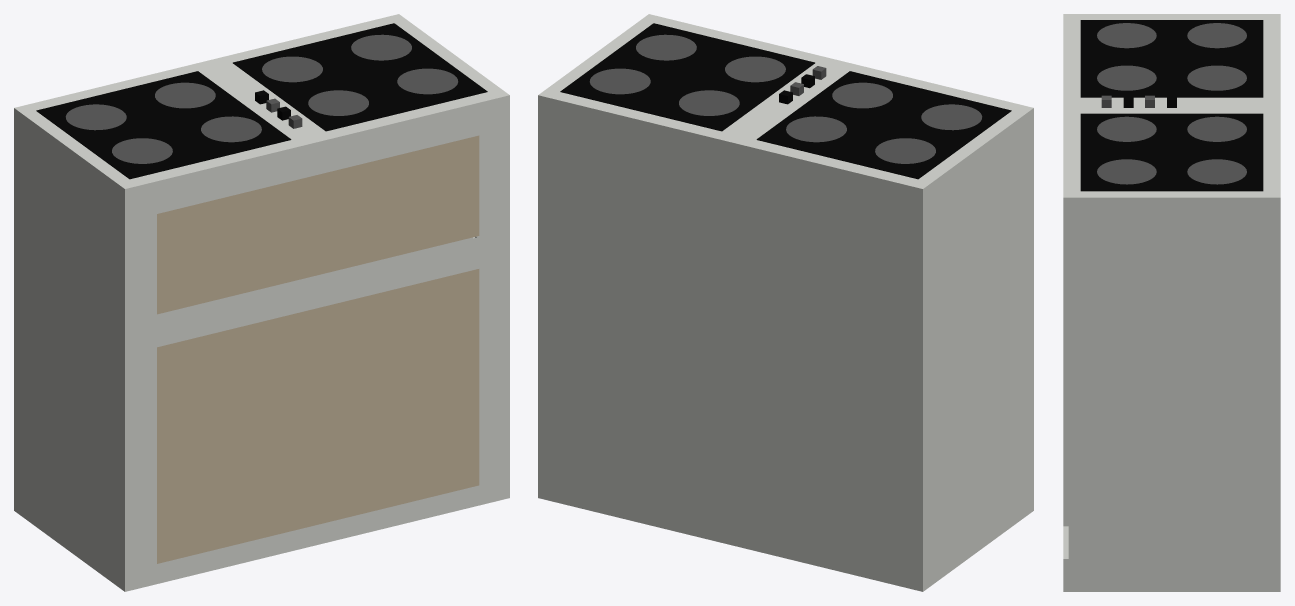
File: stove.fbx
3 views of the same model, side by side, from view 1: azimuth 30°, elevation 25°; view 2: azimuth 150°, elevation 25°; view 3: azimuth 270°, elevation 25° (orthographic). The views are drawn at different scales.
Visible parts, largest first — view 1: Cube, Plane.001, Plane, Cube.001, Circle.001; view 2: Cube, Cube.001, Circle.001; view 3: Cube, Cube.001, Circle.001.
Part boxes in pixels (bbox=[...]): Cube: bbox=[14, 14, 509, 591]; Plane.001: bbox=[157, 269, 479, 563]; Plane: bbox=[157, 135, 479, 314]; Cube.001: bbox=[36, 23, 487, 179]; Circle.001: bbox=[65, 34, 458, 163]; Cube: bbox=[538, 14, 1033, 591]; Cube.001: bbox=[560, 23, 1011, 179]; Circle.001: bbox=[589, 34, 982, 163]; Cube: bbox=[1063, 14, 1280, 591]; Cube.001: bbox=[1080, 20, 1263, 191]; Circle.001: bbox=[1097, 23, 1246, 184].
Bounding box in the file's own units: 476 × 486 × 239.
